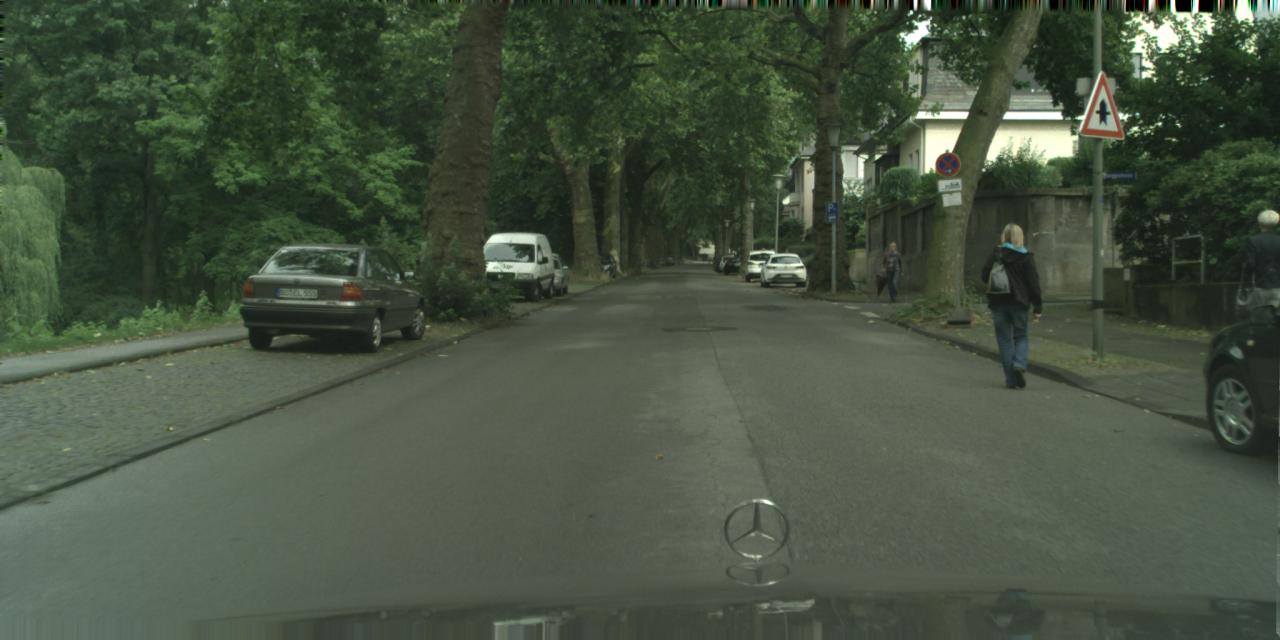ped: (980, 220, 1048, 388), (1239, 209, 1279, 368), (879, 241, 905, 303)
